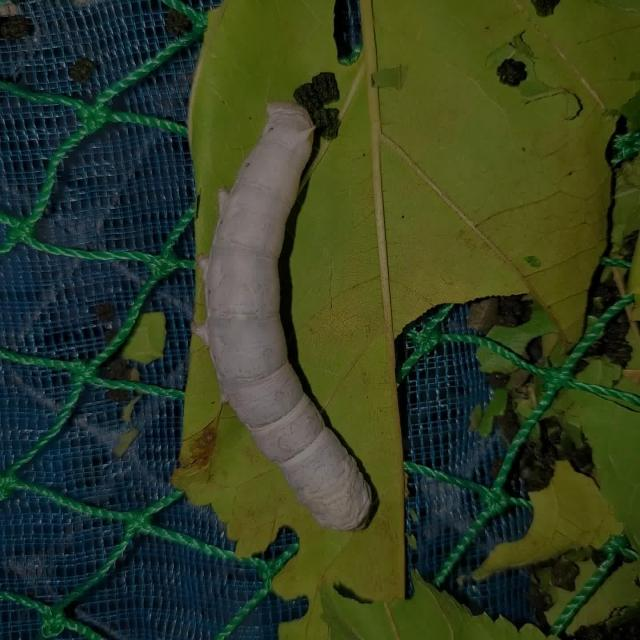Healthy: (175, 73, 429, 549)
